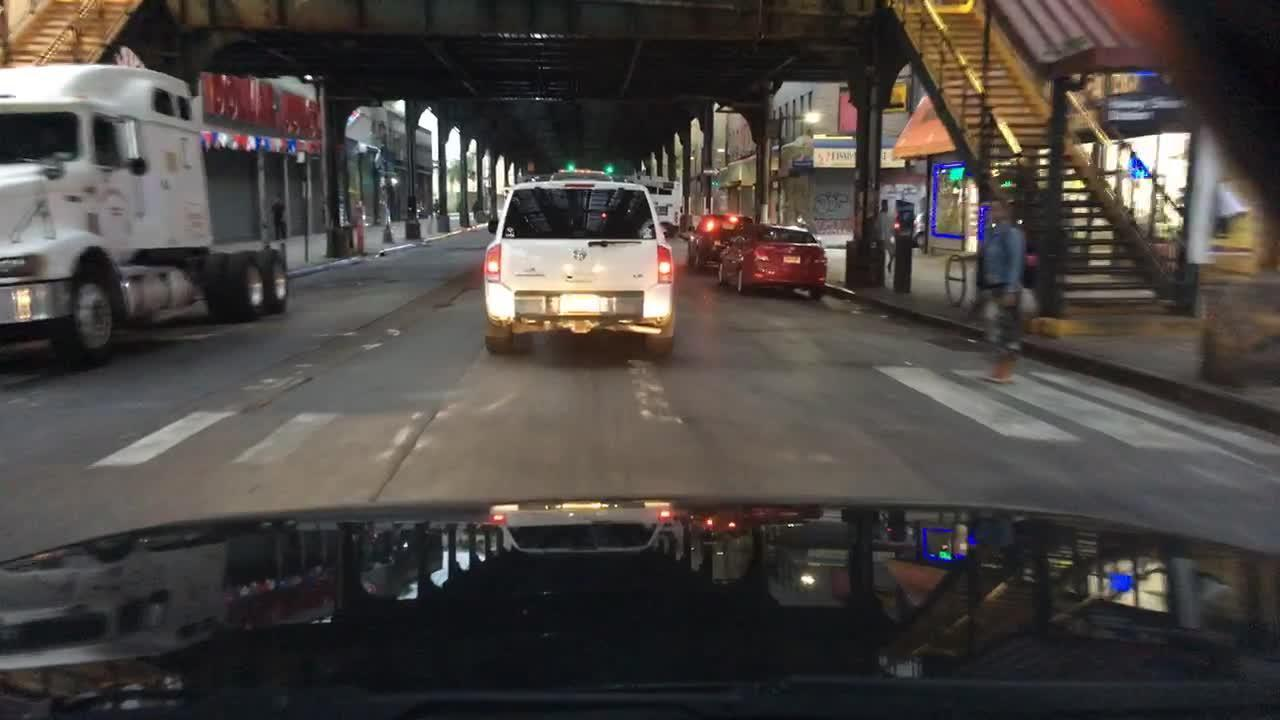Volkswagen: (571, 247, 589, 266)
